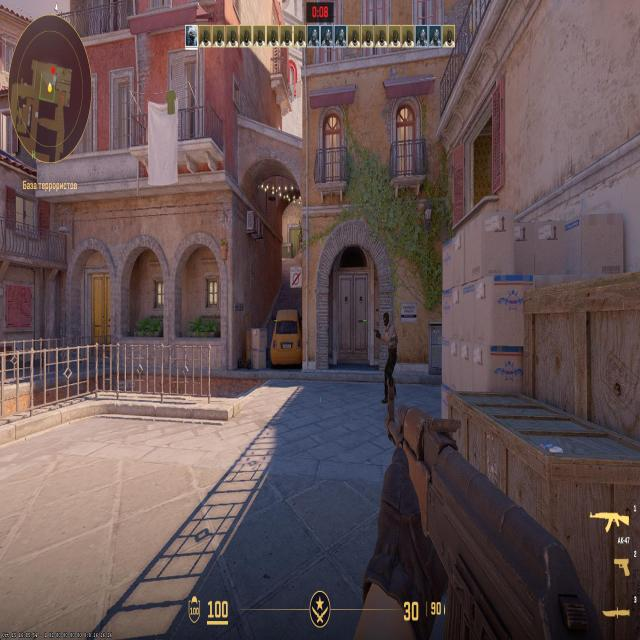T: (383, 315, 394, 391)
T_heat: (384, 320, 390, 326)
